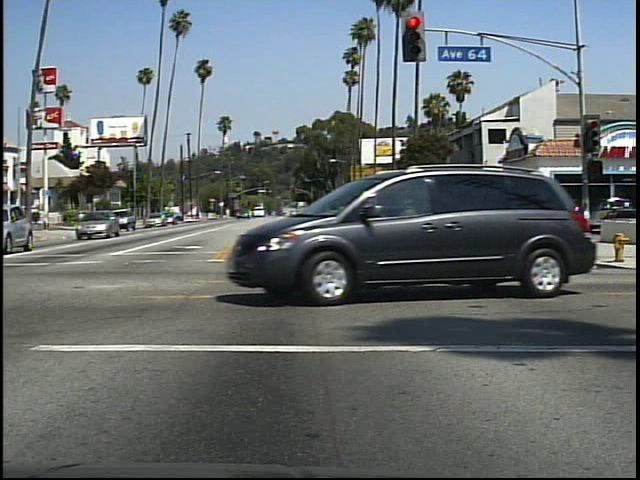person: (530, 194, 557, 247)
